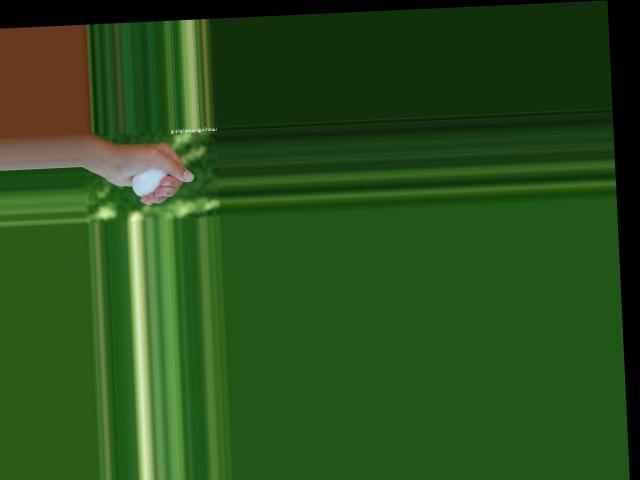egg: (131, 168, 169, 196)
